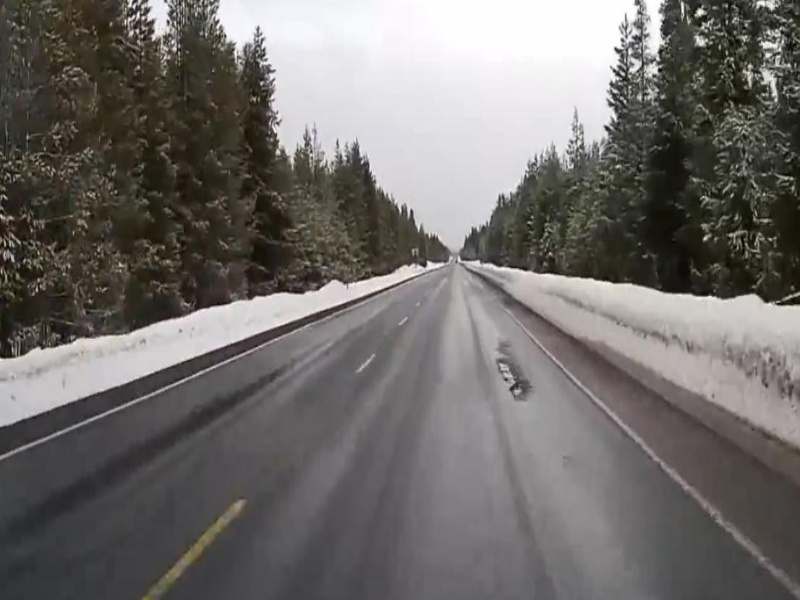pothole: (495, 356, 527, 403)
